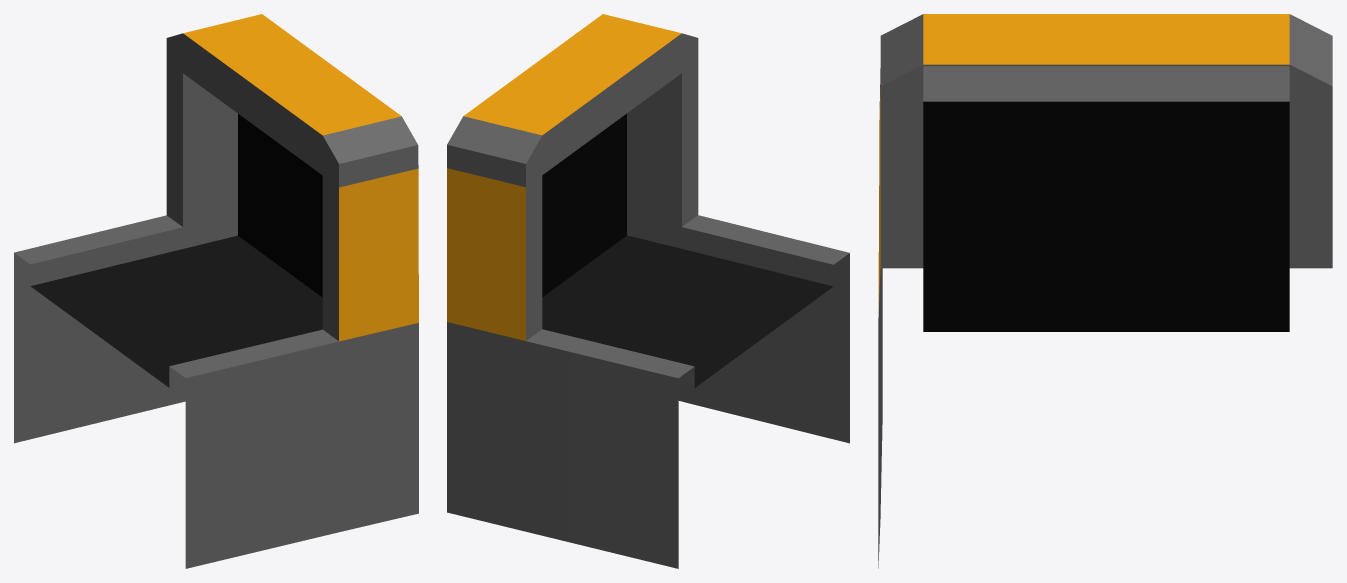
Rendered from ConveyorBeltWallEndcap.glb.
3 views of the same model, side by side, from view 1: azimuth 30°, elevation 25°; view 2: azimuth 150°, elevation 25°; view 3: azimuth 270°, elevation 25° (orthographic). The views are drawn at different scales.
Visible parts, largest first — view 1: Conveyor_LP; view 2: Conveyor_LP; view 3: Conveyor_LP.
Part boxes in pixels (left/top/right/bottom): Conveyor_LP: left=14, top=14, right=418, bottom=568; Conveyor_LP: left=447, top=14, right=849, bottom=568; Conveyor_LP: left=878, top=14, right=1332, bottom=568.
Bounding box in the file's own units: 0.9977 × 1.58 × 1.29.
